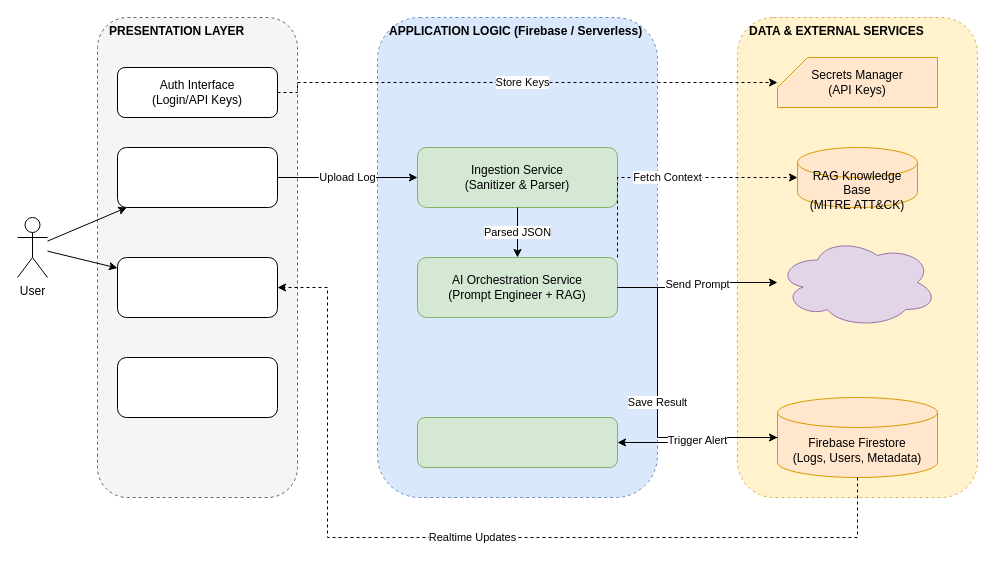
This 995x563 diagram has some shape labels left out. Each missing label, with the centre of its shape:
"Analytics Dashboard (Charts/Metrics)" goes at [197,287].
"External LLM API (OpenAI/Anthropic)" goes at [857,282].
"Incident Detail View (Filters/Search)" goes at [197,387].
"Log Upload & Validation UI" goes at [197,177].
"Notification Engine (High Risk Alerts)" goes at [517,442].
